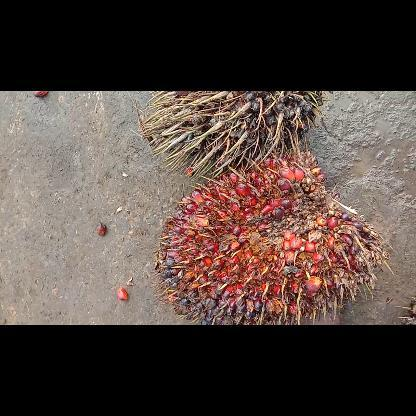TBS abnormal: (139, 91, 329, 173)
TBS masak: (156, 148, 390, 324)
